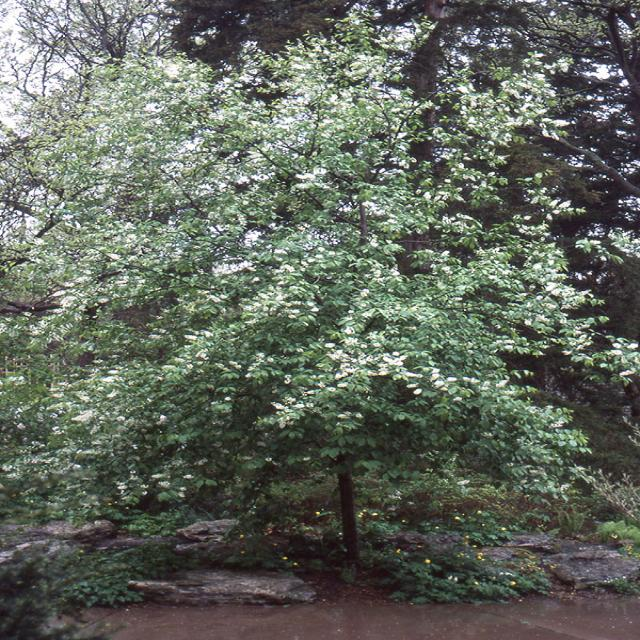Prunus virginiana: (55, 54, 587, 586)
